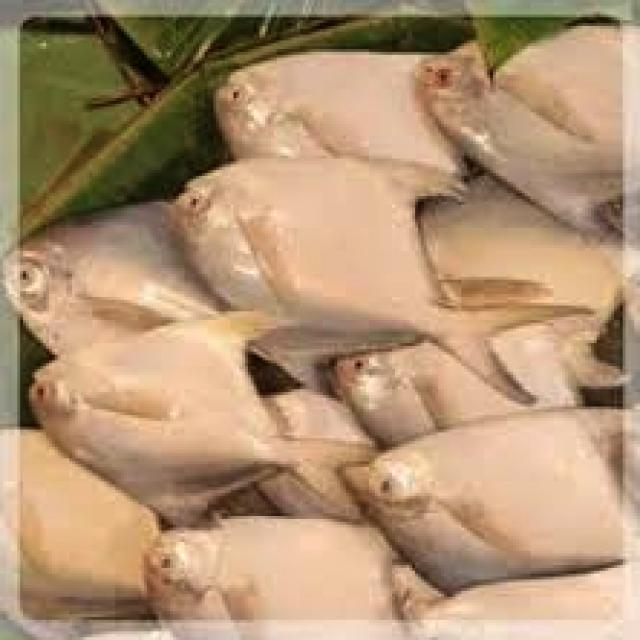pomfred: (173, 157, 604, 405)
